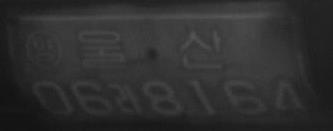0: (31, 77, 73, 117)
1: (183, 78, 218, 116)
4: (268, 79, 304, 119)
6: (222, 78, 267, 117), (74, 79, 111, 118)
8: (143, 79, 183, 116)
라: (111, 81, 144, 116)
영: (23, 30, 62, 70)
울산_D: (77, 27, 223, 70)
